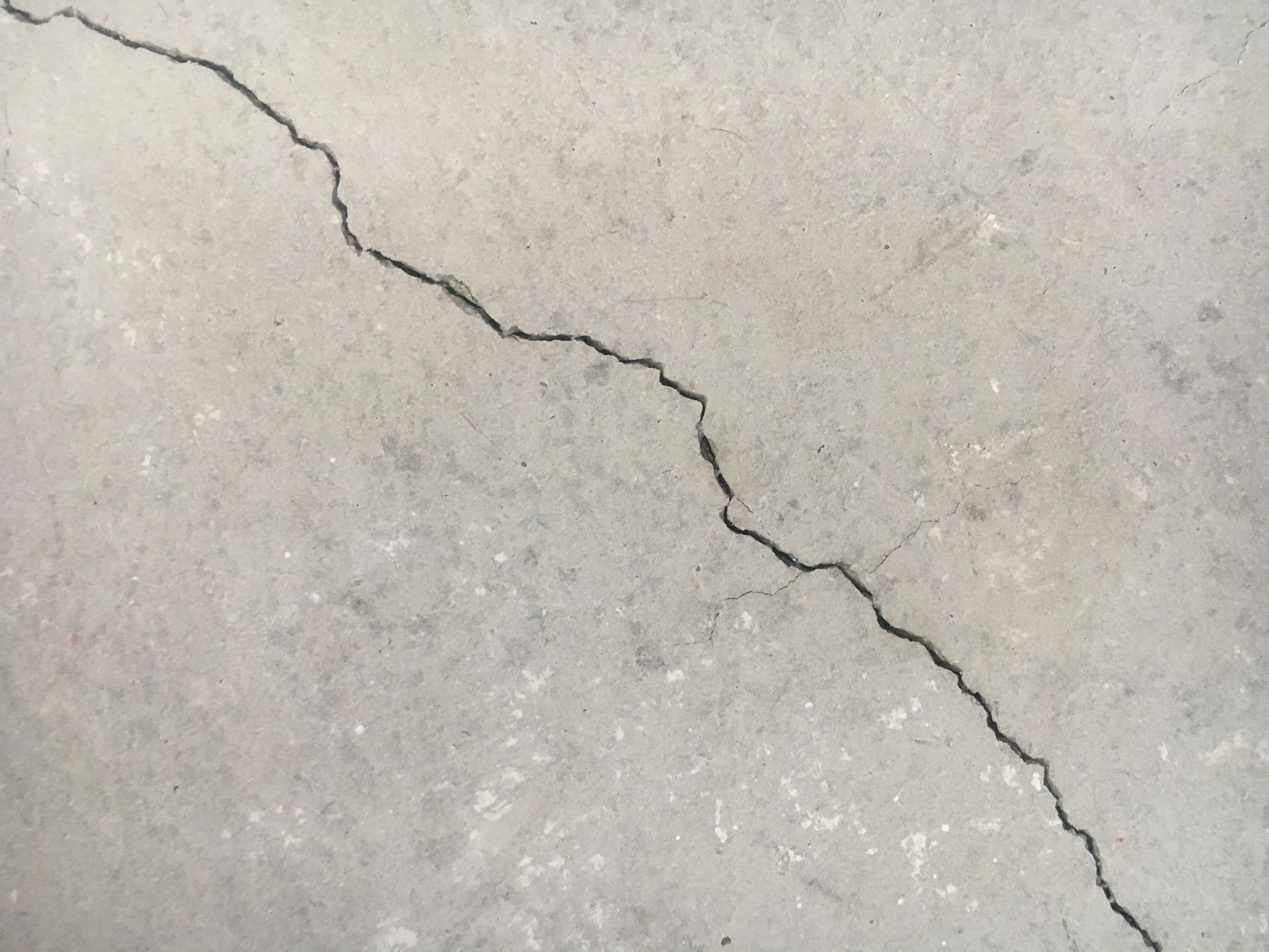Diagonal Crack: (5, 3, 1162, 948)
